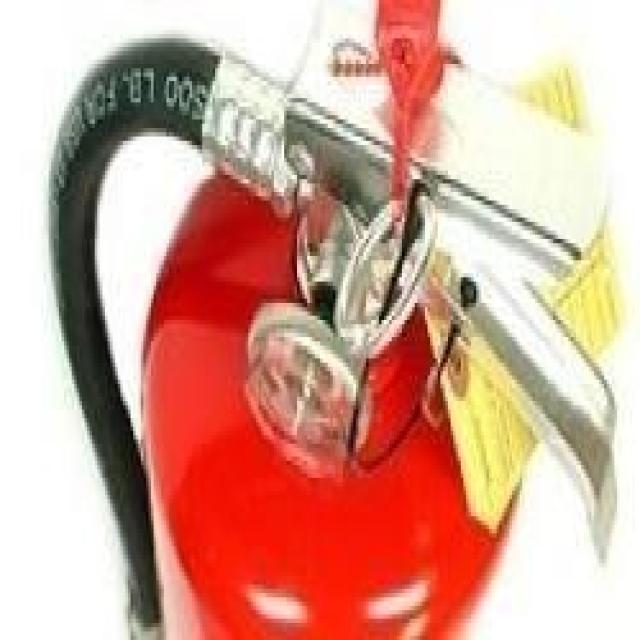Fire-Extinguisher: (50, 0, 620, 640)
